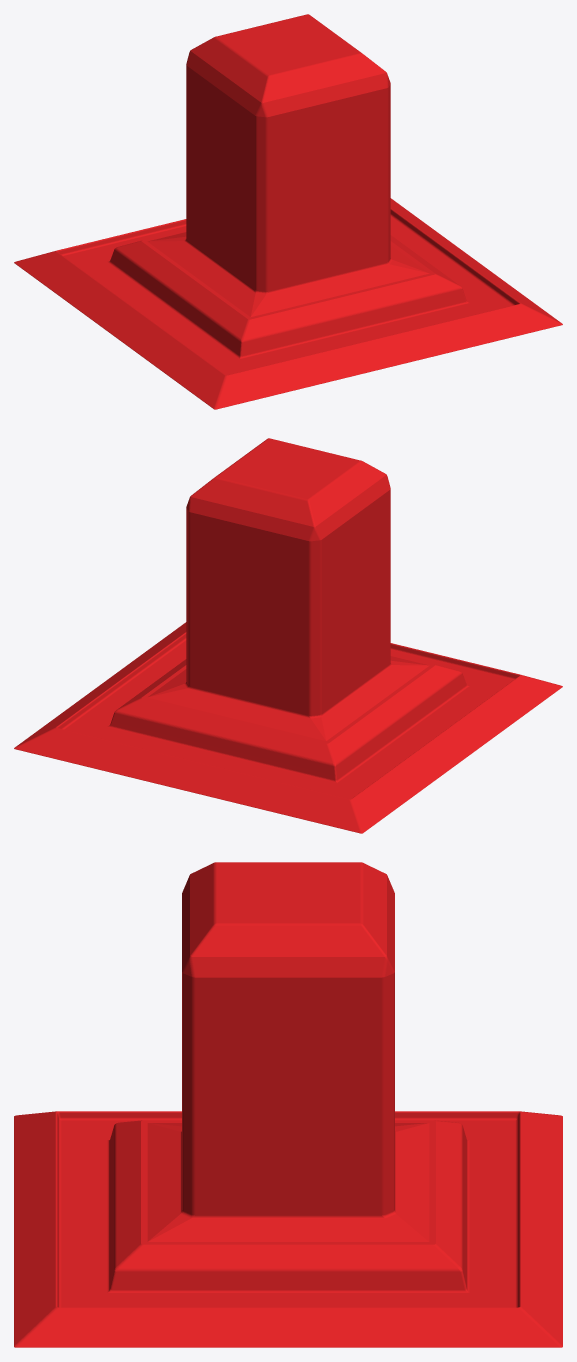
The picture shows the model from 3 angles, top to bottom: view 1: azimuth 30°, elevation 25°; view 2: azimuth 150°, elevation 25°; view 3: azimuth 270°, elevation 25°; orthographic projection. The views are drawn at different scales.
Visible parts, largest first — view 1: Base; view 2: Base; view 3: Base.
Part boxes in pixels (box(x1,y1,x2,y2)): Base: box(14, 14, 562, 409); Base: box(14, 438, 562, 833); Base: box(14, 862, 562, 1347).
Bounding box in the file's own units: 10.32 × 7.03 × 10.32.
